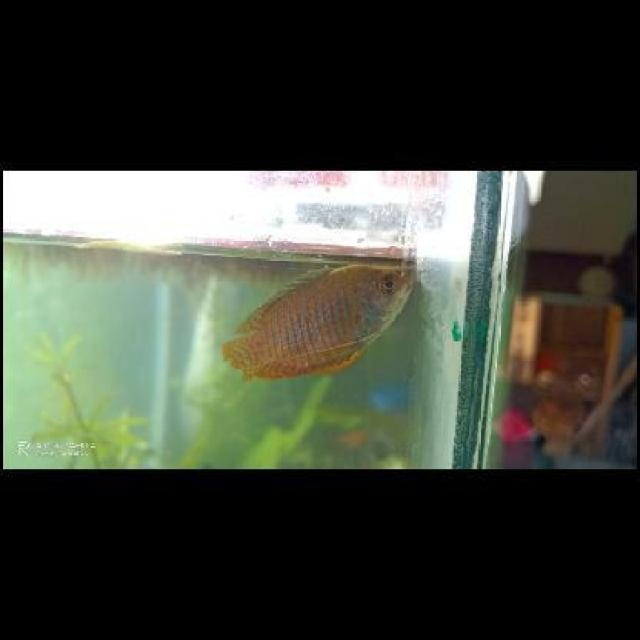Gourami: (222, 259, 416, 375)
